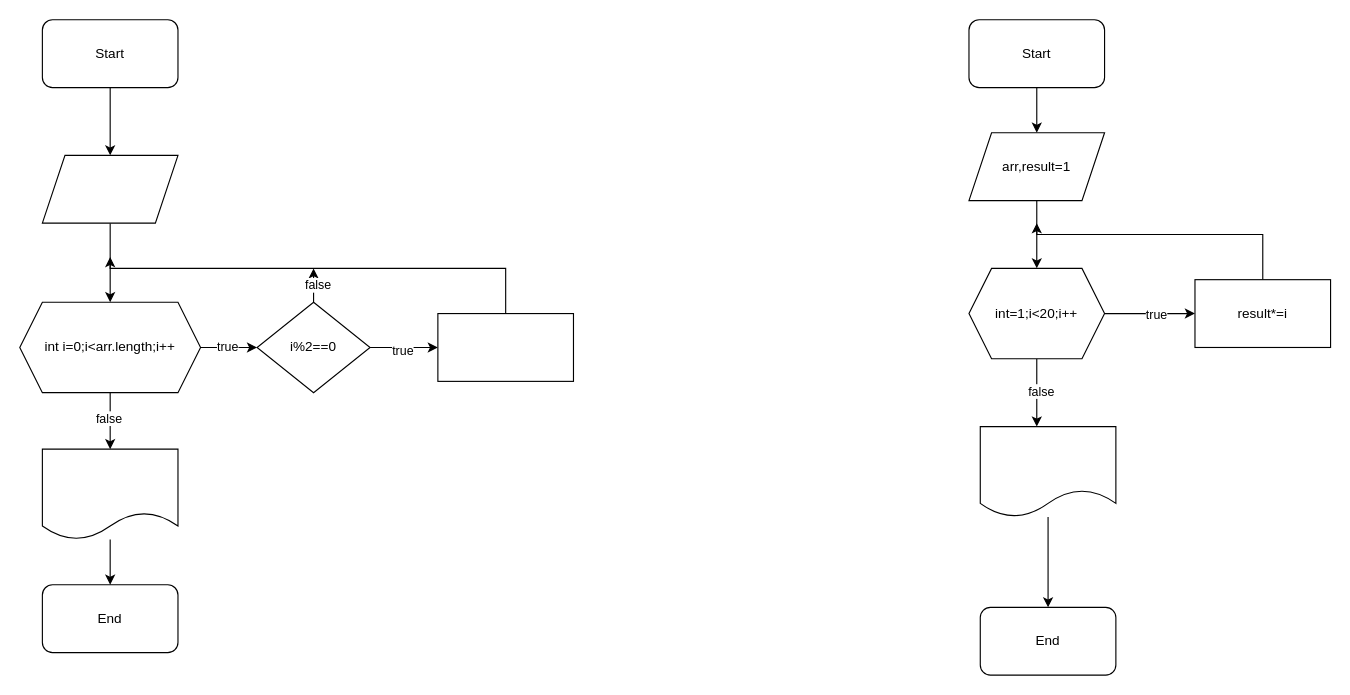
This 1350x695 diagram has some shape labels left out. The shapes that lost their labels are listed below. From the top down, each one's centre as x and y in pixels, then its label:
pixel 109 188: arr,count=0
pixel 505 346: count++
pixel 1047 471: result
pixel 109 494: count
